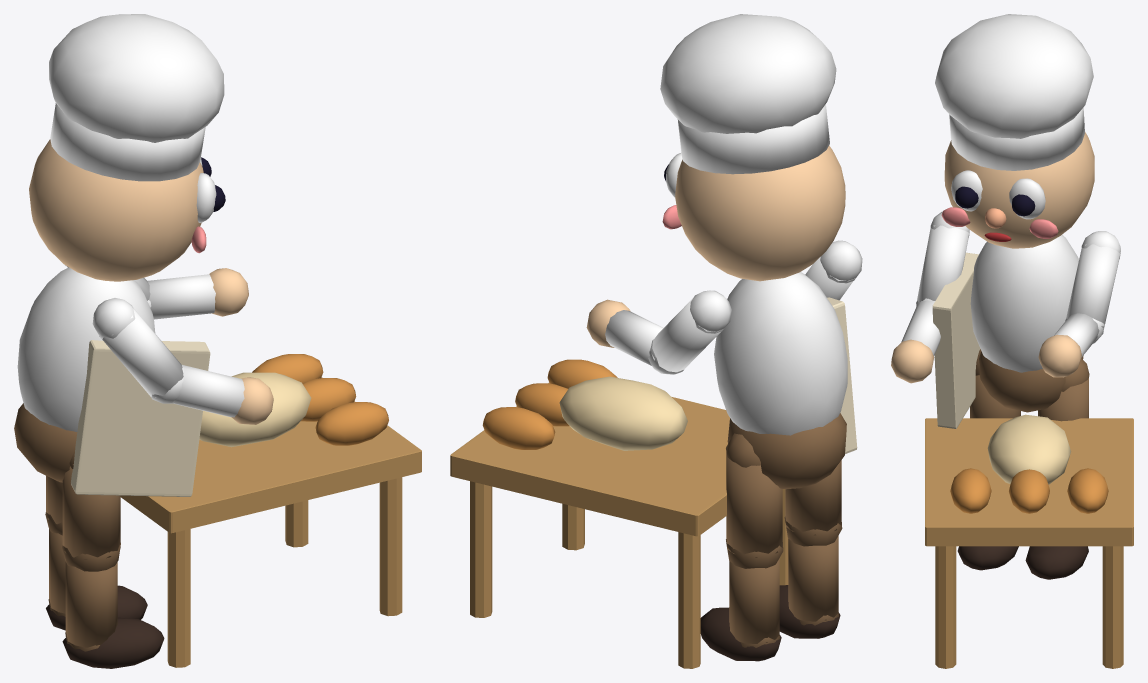
Rendered from pekar.glb.
3 renders of one model, left to right at view 1: azimuth 30°, elevation 25°; view 2: azimuth 150°, elevation 25°; view 3: azimuth 270°, elevation 25°, orthographic. The views are drawn at different scales.
Visible parts, largest first — view 1: Sphere.011, Sphere.002, Cube.001, Cube, Sphere, Cylinder, Sphere.030, Cylinder.006, Cylinder.005, Cylinder.001, Cylinder.009, Cylinder.011 (+16 smaller); view 2: Cube.001, Sphere, Sphere.011, Sphere.002, Sphere.030, Cylinder, Sphere.001, Cylinder.007, Cylinder.006, Cylinder.008, Cylinder.010, Cylinder.012 (+18 smaller); view 3: Cube.001, Sphere.011, Sphere, Sphere.002, Cube, Cylinder, Sphere.030, Sphere.001, Cylinder.003, Cylinder.011, Cylinder.012, Cylinder.001 (+19 smaller).
Part boxes in pixels (x1,y1,x2,y2): Sphere.011: [49, 14, 224, 142]; Sphere.002: [29, 139, 203, 281]; Cube.001: [120, 377, 421, 533]; Cube: [71, 340, 210, 496]; Sphere: [17, 267, 155, 431]; Cylinder: [50, 103, 205, 181]; Sphere.030: [199, 372, 311, 447]; Cylinder.006: [65, 562, 117, 647]; Cylinder.005: [62, 464, 120, 559]; Cylinder.001: [99, 307, 183, 397]; Cylinder.009: [167, 529, 190, 667]; Cylinder.011: [379, 477, 402, 616]; Cube.001: [450, 383, 729, 536]; Sphere: [714, 272, 847, 435]; Sphere.011: [660, 14, 836, 133]; Sphere.002: [675, 145, 845, 281]; Sphere.030: [559, 376, 687, 450]; Cylinder: [677, 104, 829, 174]; Sphere.001: [727, 413, 846, 489]; Cylinder.007: [726, 452, 782, 557]; Cylinder.006: [788, 536, 838, 621]; Cylinder.008: [729, 558, 779, 643]; Cylinder.010: [678, 532, 700, 668]; Cylinder.012: [470, 481, 492, 617]; Cube.001: [925, 418, 1133, 546]; Sphere.011: [935, 14, 1093, 138]; Sphere: [970, 235, 1078, 372]; Sphere.002: [944, 132, 1094, 248]; Cube: [932, 252, 980, 428]; Cylinder: [949, 107, 1084, 170]; Sphere.030: [987, 414, 1071, 484]; Sphere.001: [979, 351, 1083, 412]; Cylinder.003: [1066, 244, 1119, 328]; Cylinder.011: [935, 546, 956, 668]; Cylinder.012: [1102, 546, 1123, 668]; Cylinder.001: [917, 225, 968, 302].
Bounding box in the file's own units: 0.8361 × 1.46 × 0.5813.
